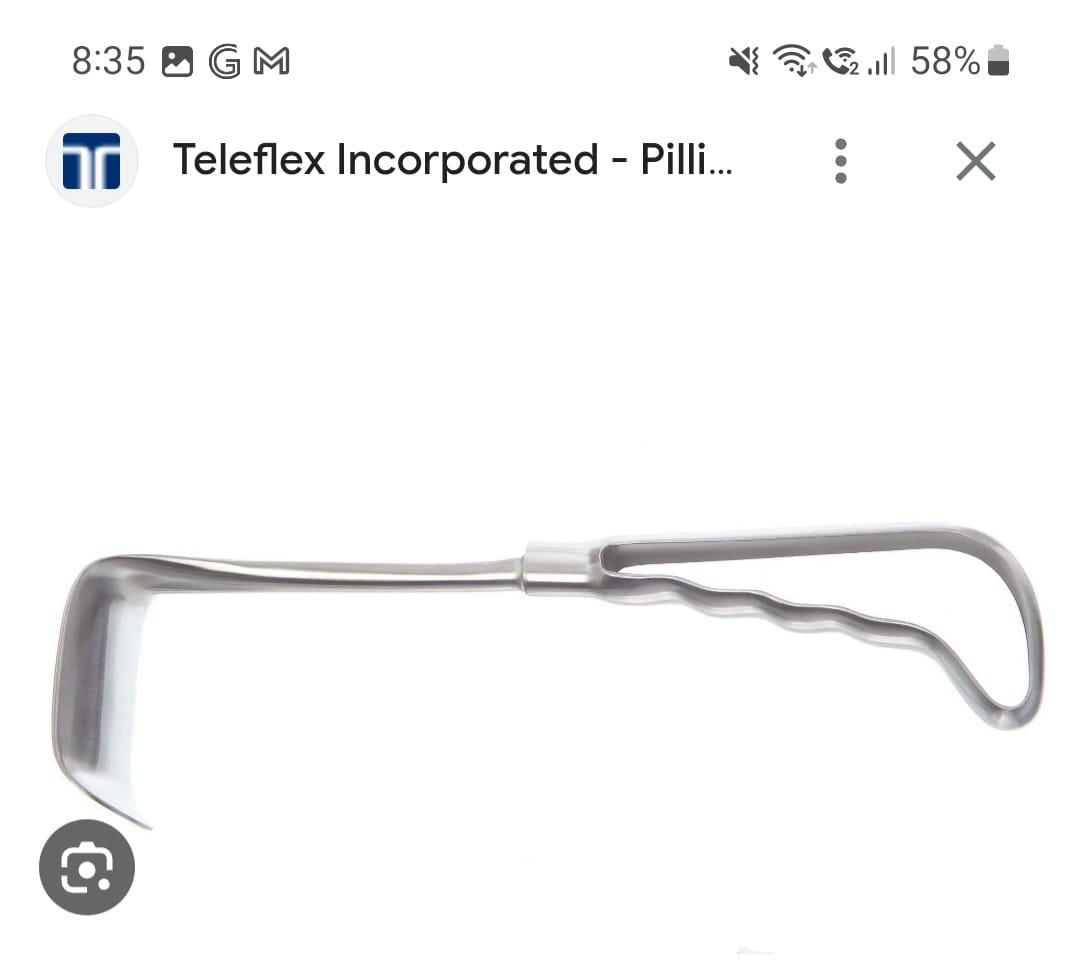Kelly Retractor: (49, 517, 1059, 830)
